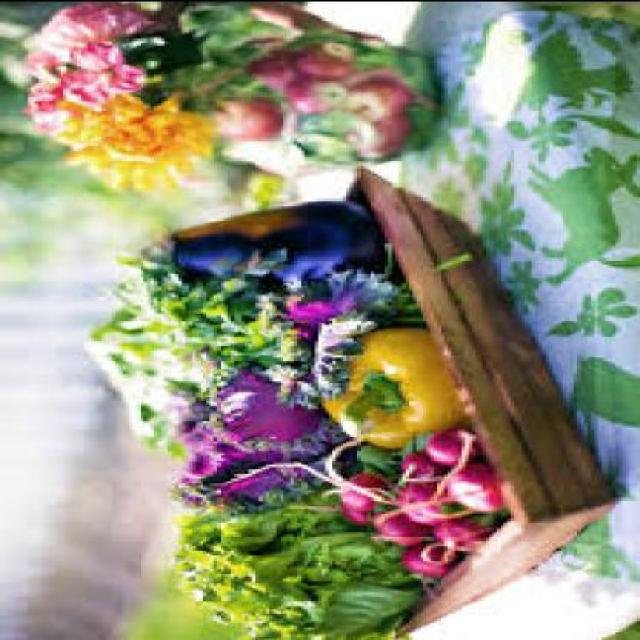BIODEGRADABLE: (171, 488, 420, 638), (84, 260, 248, 454), (200, 263, 412, 403), (172, 365, 353, 510), (126, 198, 388, 287), (312, 317, 452, 446), (56, 93, 199, 193), (14, 2, 163, 66), (59, 42, 136, 98), (14, 59, 60, 132), (444, 461, 496, 510), (325, 470, 381, 510), (420, 426, 478, 463), (372, 508, 430, 544), (392, 479, 441, 521), (392, 538, 451, 572), (431, 515, 489, 547), (325, 498, 378, 519), (350, 447, 396, 470), (398, 452, 442, 474)
